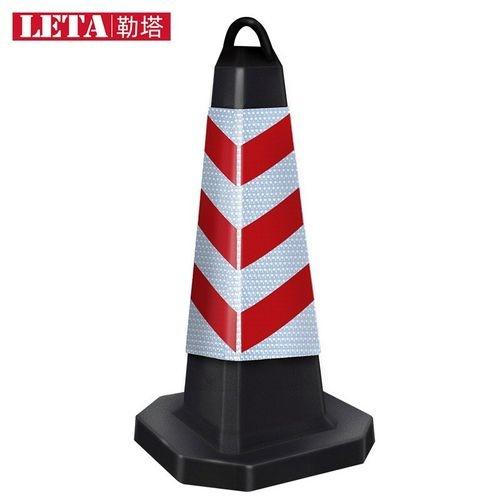cone_barrel: (153, 19, 350, 485)
